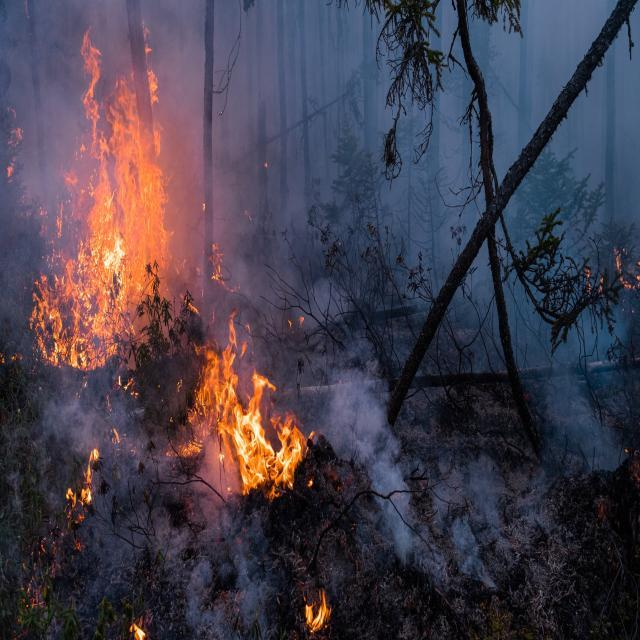Fire: (28, 17, 206, 362), (183, 322, 319, 489), (66, 442, 105, 513), (299, 584, 337, 638)
Smoke: (200, 0, 637, 338), (341, 352, 545, 602)
